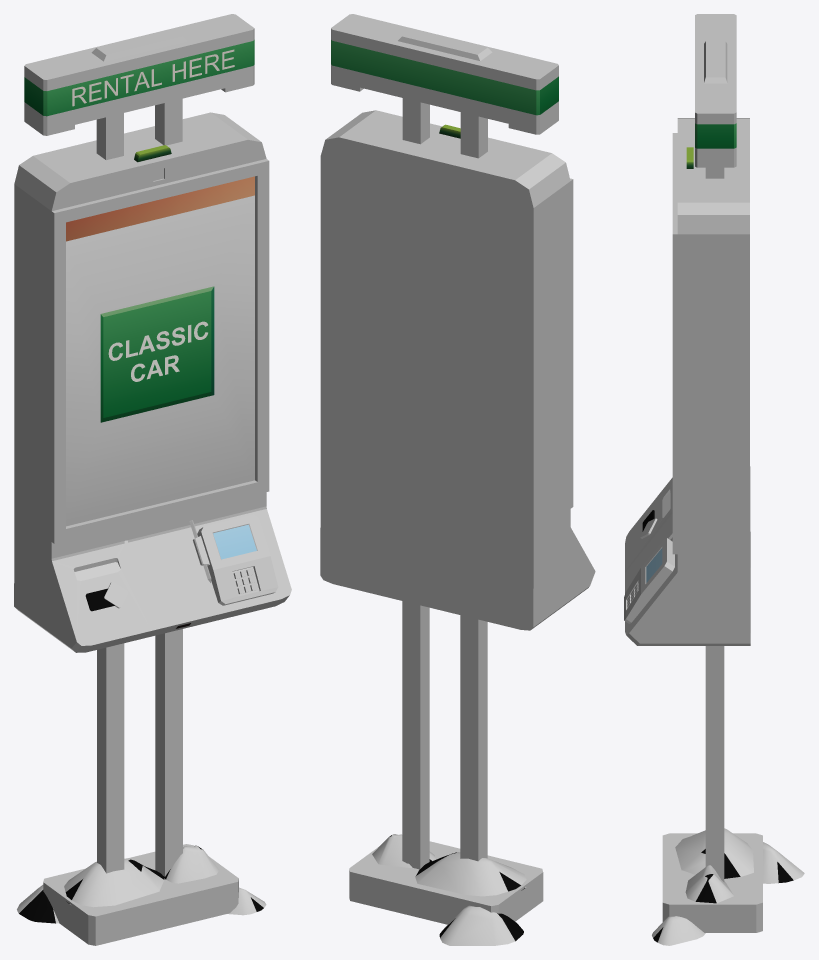
Rendered from VE_Kiosk_007.FBX.
3 views of the same model, side by side, from view 1: azimuth 30°, elevation 25°; view 2: azimuth 150°, elevation 25°; view 3: azimuth 270°, elevation 25° (orthographic). The views are drawn at different scales.
Parts seen in each view (by area): view 1: VE_Kiosk_007, unlit; view 2: VE_Kiosk_007, unlit; view 3: VE_Kiosk_007, unlit.
Boxes of the visible parts, x1,y1,x2,y2 form: VE_Kiosk_007: [14, 14, 291, 945]; unlit: [24, 39, 256, 628]; VE_Kiosk_007: [320, 14, 595, 945]; unlit: [331, 40, 558, 138]; VE_Kiosk_007: [624, 14, 804, 945]; unlit: [646, 123, 736, 582].
Size of the model in its own units: 48.63 by 187 by 36.59.
